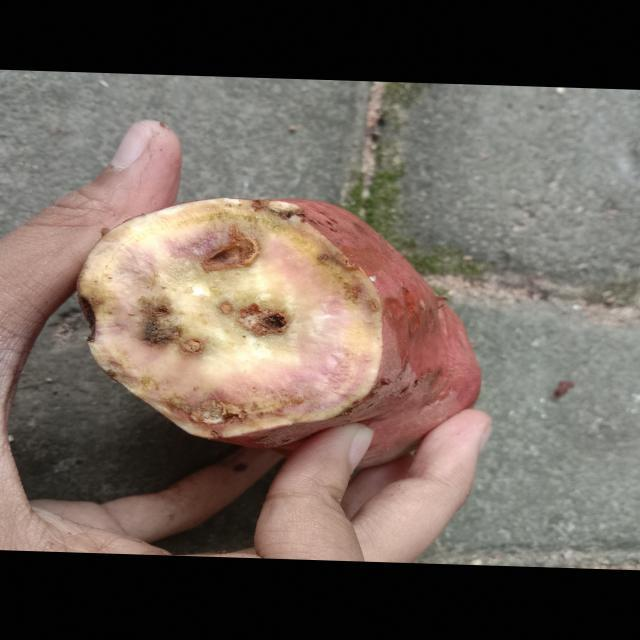Sick Sweet Potato_Tuber Rot: (78, 199, 382, 441)
